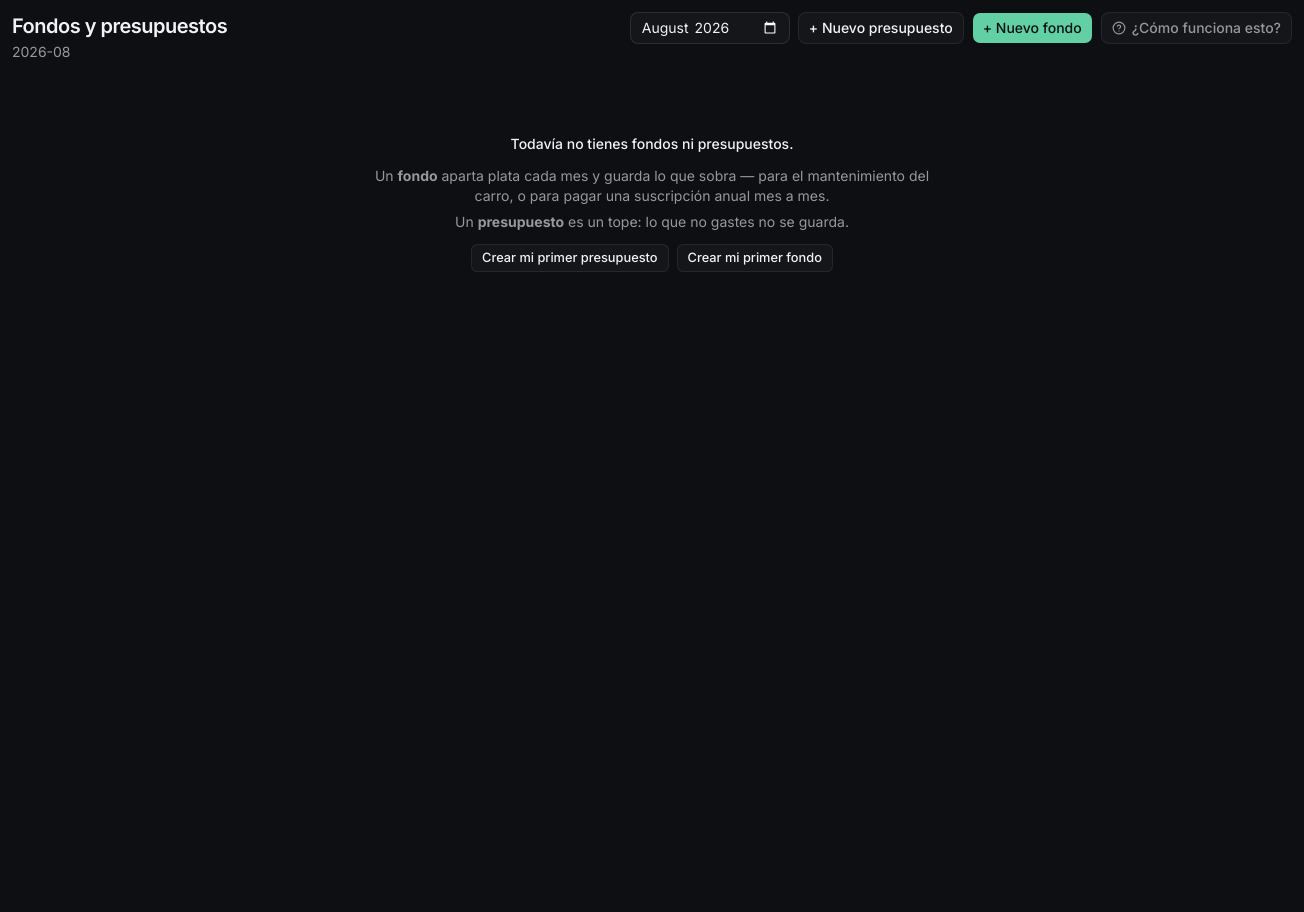
Test case: AC-5 — the rule picker names the job and carries a worked number › The subscription rule says so when the category has none
Click the button "+ Nuevo fondo".
click(1032, 28)  # box [972,12,1093,44]
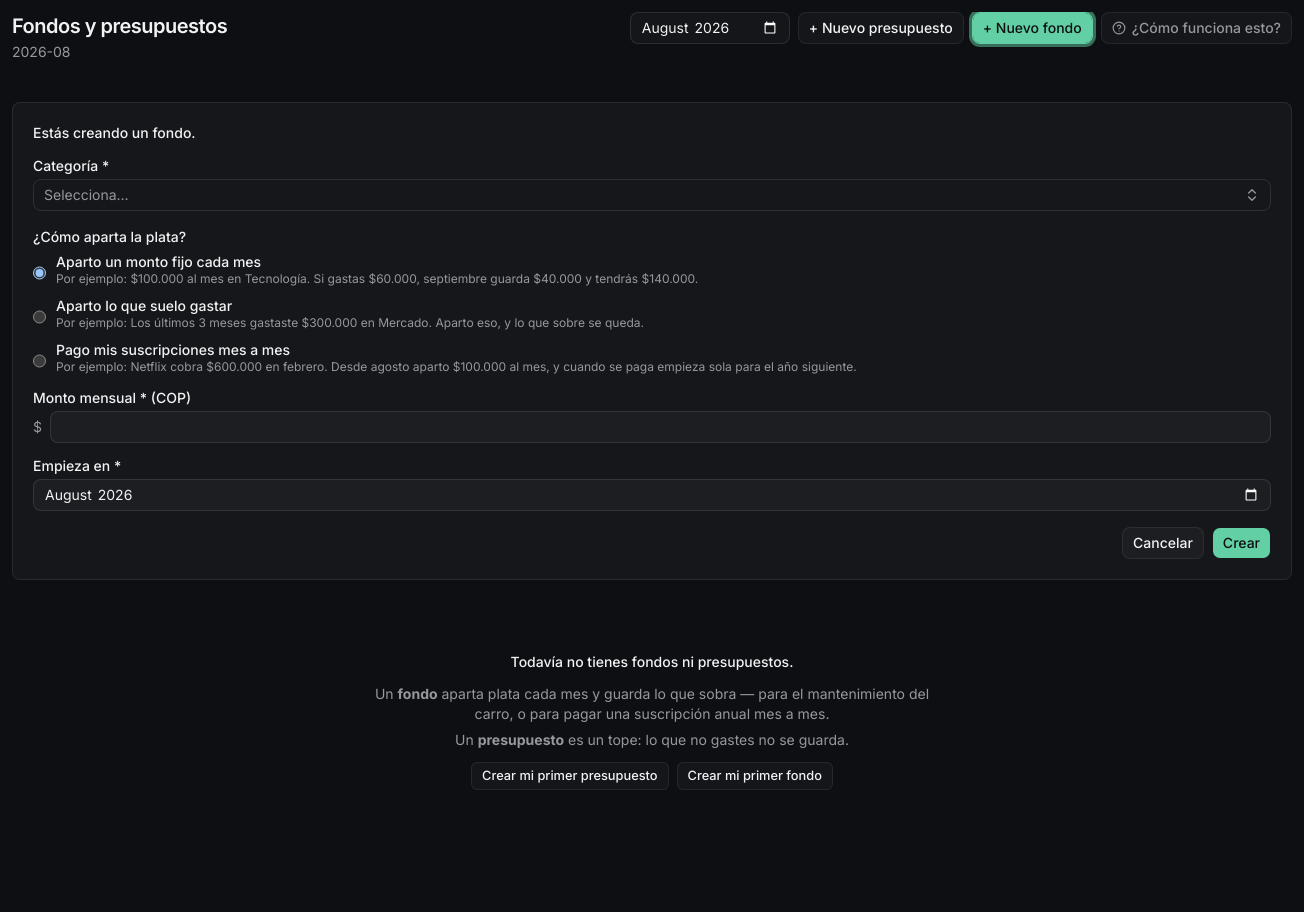
Click the dropdown named "Categoría *".
click(86, 194)  # box [33,179,1271,211]
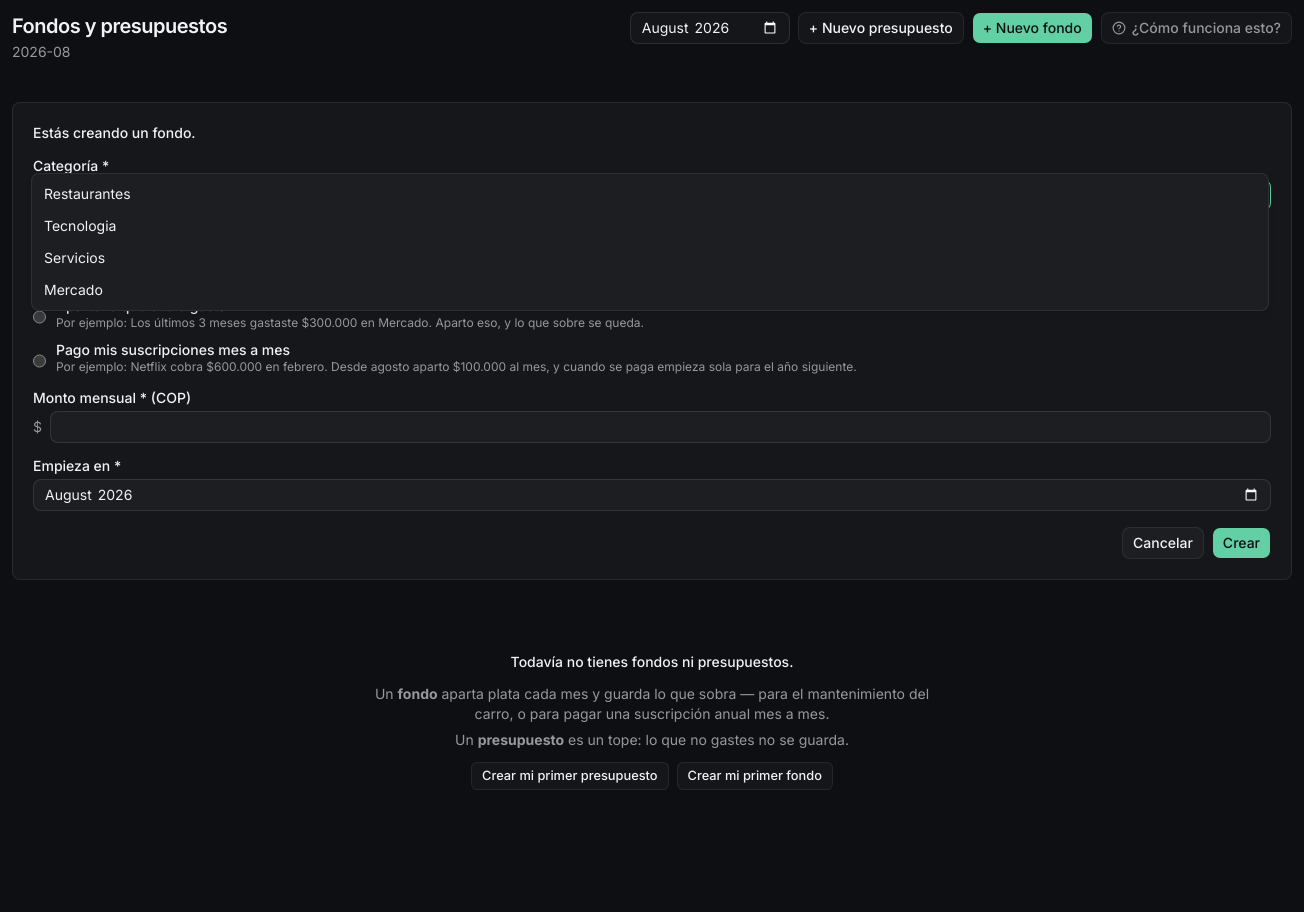
Click the option "Servicios".
click(75, 258)  # box [44,249,105,266]
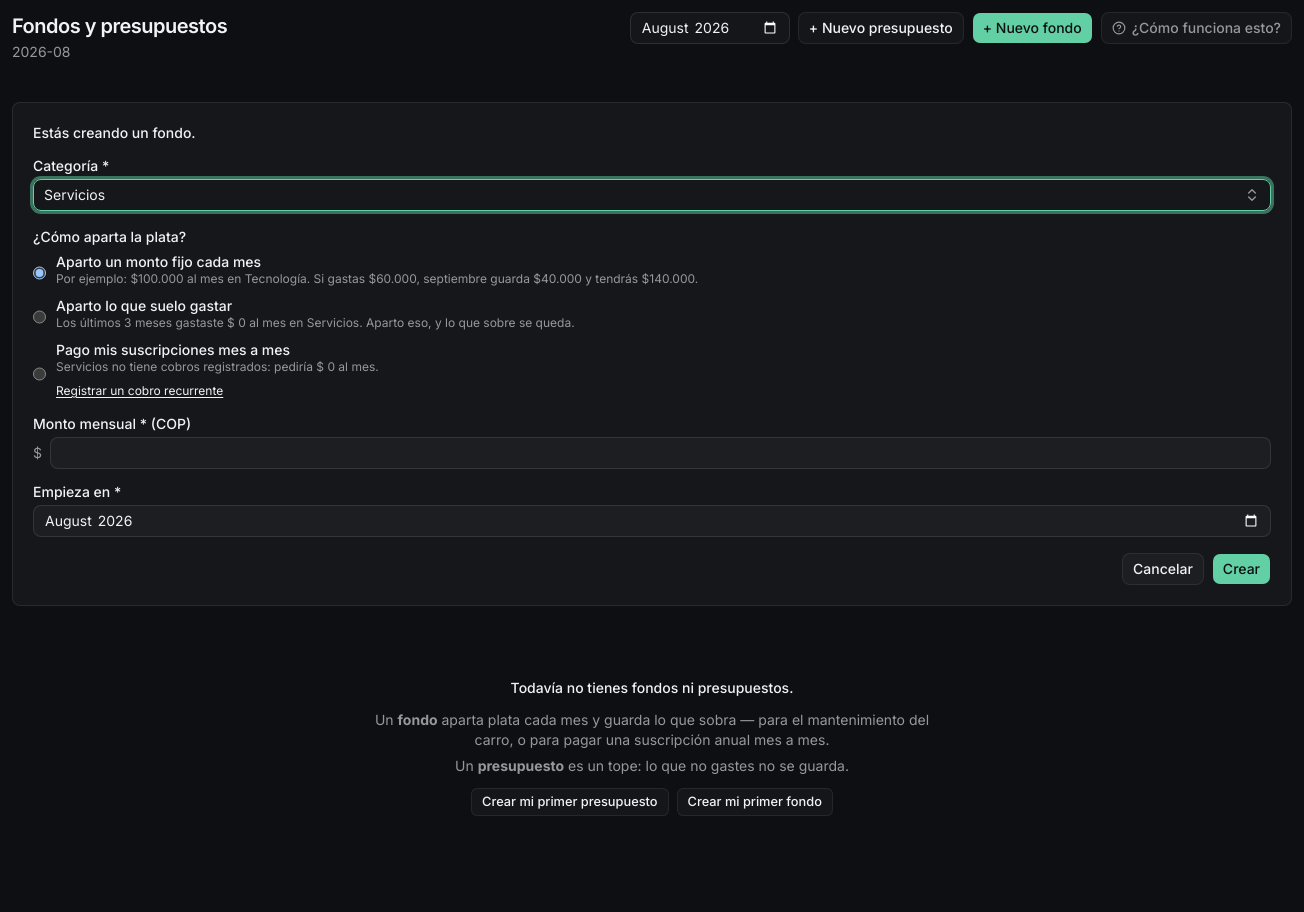
Result: the text "Servicios no tiene cobros registrados: pediría $ 0 al mes." is shown at [56,359,379,375]
